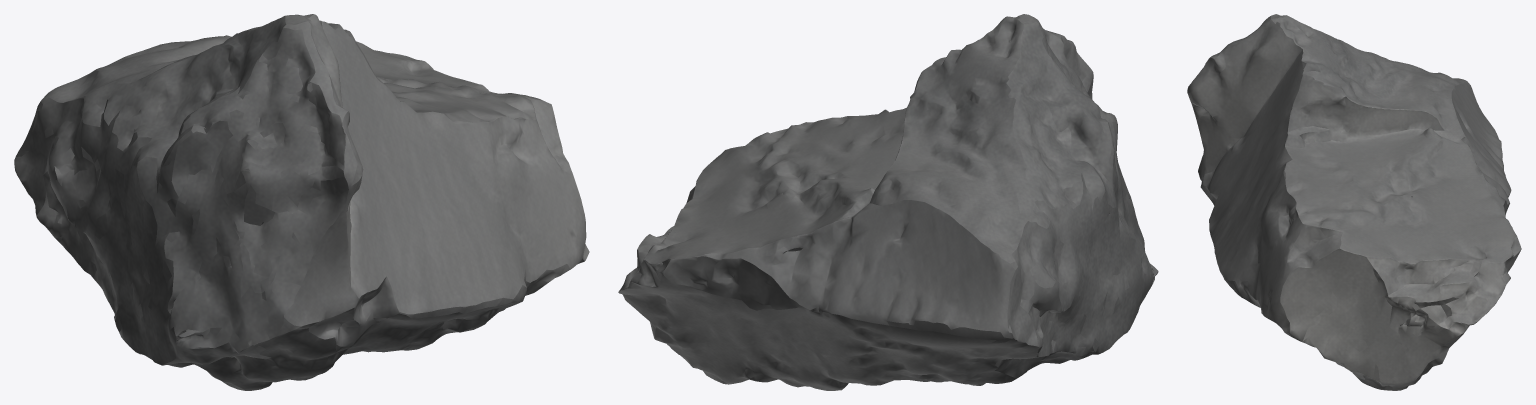
The model's file is tex_mesh.glb.
3 renders of one model, left to right at view 1: azimuth 30°, elevation 25°; view 2: azimuth 150°, elevation 25°; view 3: azimuth 270°, elevation 25°, orthographic. The views are drawn at different scales.
Parts seen in each view (by area): view 1: world; view 2: world; view 3: world.
Part boxes in pixels (x1=…): world: x1=14, y1=14, x2=589, y2=390; world: x1=618, y1=14, x2=1158, y2=390; world: x1=1187, y1=14, x2=1521, y2=390.
Size of the model in its own units: 0.12 by 0.103 by 0.1087.
Materials: 1 (1 with a texture image).
